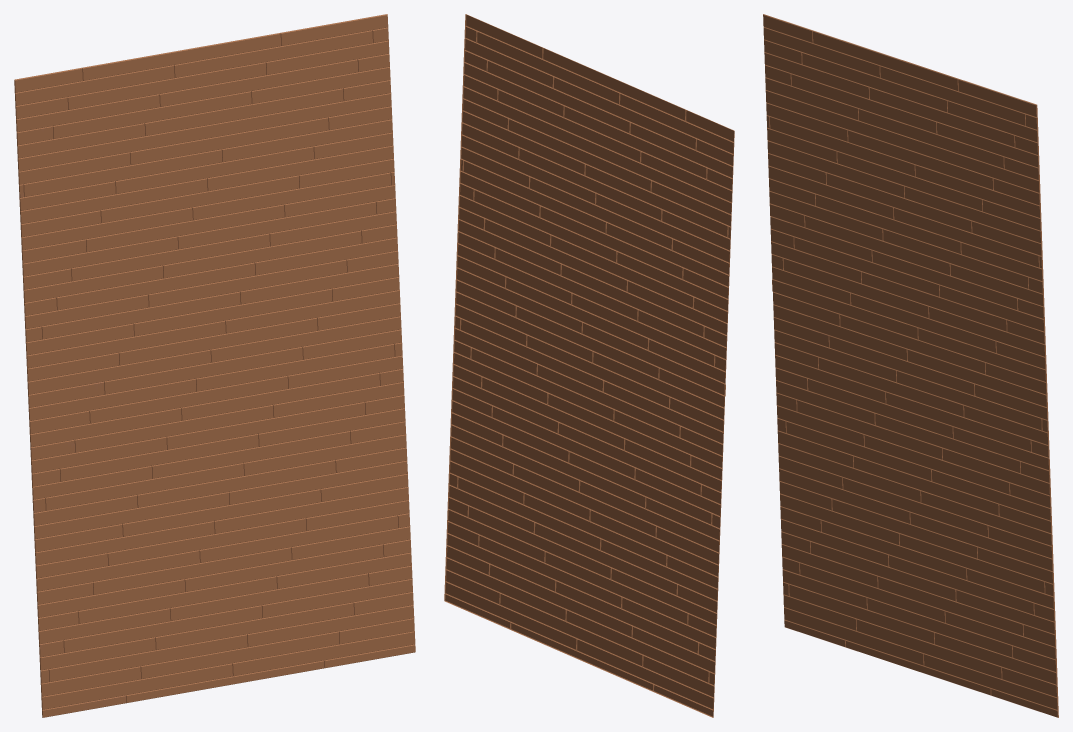
The model's file is Floorcolore.fbx.
The picture shows the model from 3 angles, left to right: view 1: azimuth 30°, elevation 25°; view 2: azimuth 150°, elevation 25°; view 3: azimuth 330°, elevation 25°; orthographic projection. The views are drawn at different scales.
Visible parts, largest first — view 1: node_id4; view 2: node_id4; view 3: node_id4.
Boxes of the visible parts, <box> form: node_id4: <box>14,14,415,717</box>; node_id4: <box>444,14,734,717</box>; node_id4: <box>763,14,1058,717</box>.
Bounding box in the file's own units: 0.5384 × 0.946 × 0.1162.
1 material, 1 textured.
